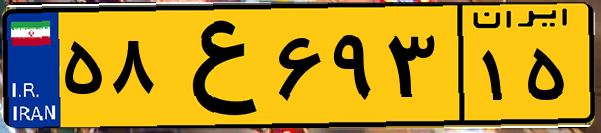1: (475, 38, 525, 113)
3: (385, 28, 445, 110)
5: (57, 26, 110, 100), (525, 38, 570, 115)
6: (270, 28, 330, 110)
8: (110, 28, 158, 98)
9: (330, 28, 385, 110)
ع: (158, 12, 270, 120)
